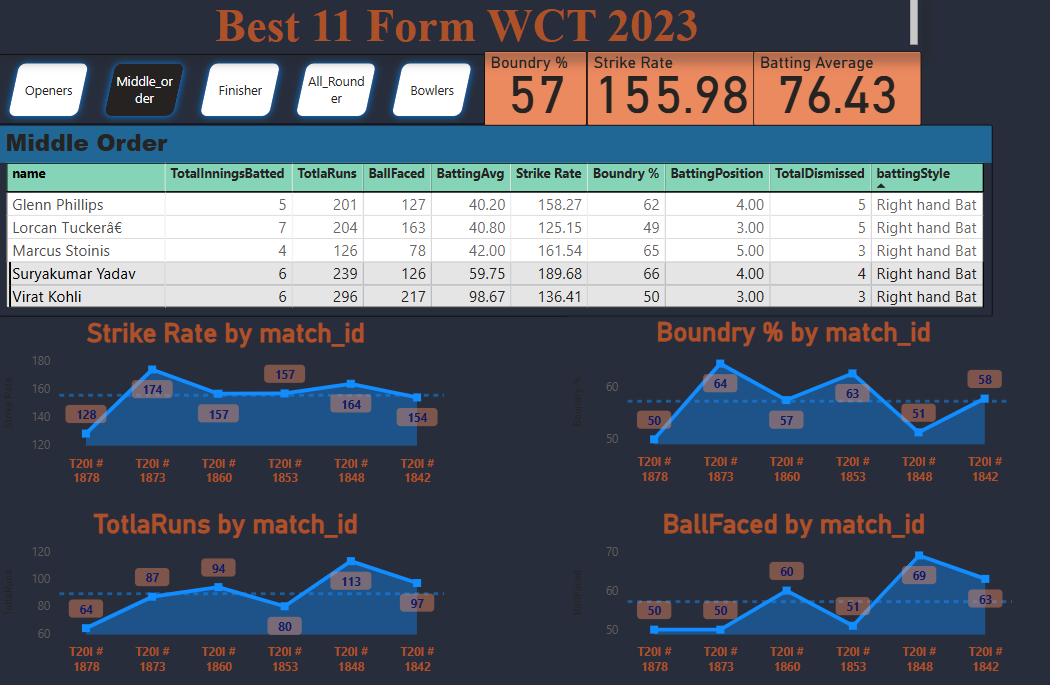

The dashboard page shown, as its layout file describes it:
{"tool":"powerbi","page":{"name":"Middle_order","canvas":[1280,720],"ordinal":1},"visuals":[{"type":"tableEx","title":"Middle Order","fields":{"Values":["player.name","measure.TotalInningsBatted","measure.TotlaRuns","measure.BallFaced","measure.BattingAvg","measure.Strike Rate","measure.Boundry %","measure.BattingPosition","measure.TotalDismissed","player.battingStyle"]},"box":[0.5,135.4,1036.4,200],"z":0},{"type":"card","title":"Boundry %","fields":{"Values":["measure.Boundry %"]},"box":[506.3,58.9,107.1,77],"z":1000},{"type":"card","title":"Strike Rate","fields":{"Values":["measure.Strike Rate"]},"box":[612.8,58.9,175,77],"z":2000},{"type":"card","title":"Batting Average","fields":{"Values":["measure.BattingAvg"]},"box":[787,58.9,175,77],"z":3000},{"type":"areaChart","fields":{"Category":["match.match_id"],"Y":["measure.Strike Rate"]},"box":[0,336.4,472.7,183.3],"z":4000},{"type":"areaChart","fields":{"Category":["match.match_id"],"Y":["measure.Boundry %"]},"box":[592.9,335.9,472,183.3],"z":5000},{"type":"areaChart","fields":{"Category":["match.match_id"],"Y":["measure.TotlaRuns"]},"box":[0.4,535.9,472.7,181.8],"z":6000},{"type":"areaChart","fields":{"Category":["match.match_id"],"Y":["measure.BallFaced"]},"box":[592.9,535.9,472.7,181.8],"z":7000},{"type":"pageNavigator","box":[0,61.7,506.7,73.3],"z":8000},{"type":"textbox","box":[0,0,963.3,61],"z":9000}]}

Visuals, with their boxes on the page's 1280x720 design canvas (x1, y1, x2, y2). These are canvas units, not pixel positions in the 1050x685 screenshot, which may show the page scaled, cropped or inside an application window:
"Middle Order" tableEx: 0/135/1037/335
"Boundry %" card: 506/59/613/136
"Strike Rate" card: 613/59/788/136
"Batting Average" card: 787/59/962/136
areaChart - match.match_id x measure.Strike Rate: 0/336/473/520
areaChart - match.match_id x measure.Boundry %: 593/336/1065/519
areaChart - match.match_id x measure.TotlaRuns: 0/536/473/718
areaChart - match.match_id x measure.BallFaced: 593/536/1066/718
pageNavigator: 0/62/507/135
textbox: 0/0/963/61
